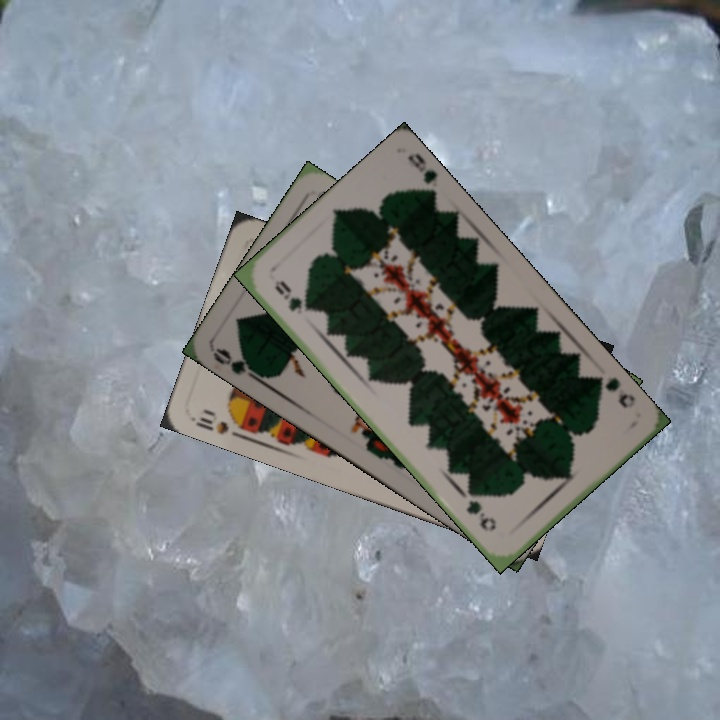G9: (592, 372, 638, 411), (270, 276, 310, 317)
GO: (209, 344, 267, 385)
S10: (188, 412, 248, 441)
